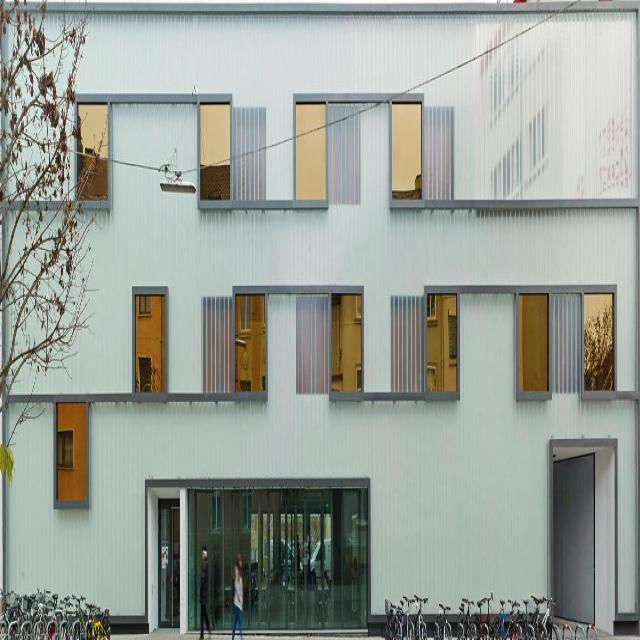door: (156, 497, 180, 630)
window: (187, 485, 367, 626), (235, 288, 266, 392), (331, 290, 362, 394), (518, 294, 549, 398), (391, 95, 422, 198), (427, 288, 457, 392), (296, 101, 326, 204), (76, 98, 107, 196), (133, 292, 164, 390), (201, 101, 231, 200), (58, 403, 88, 502)
